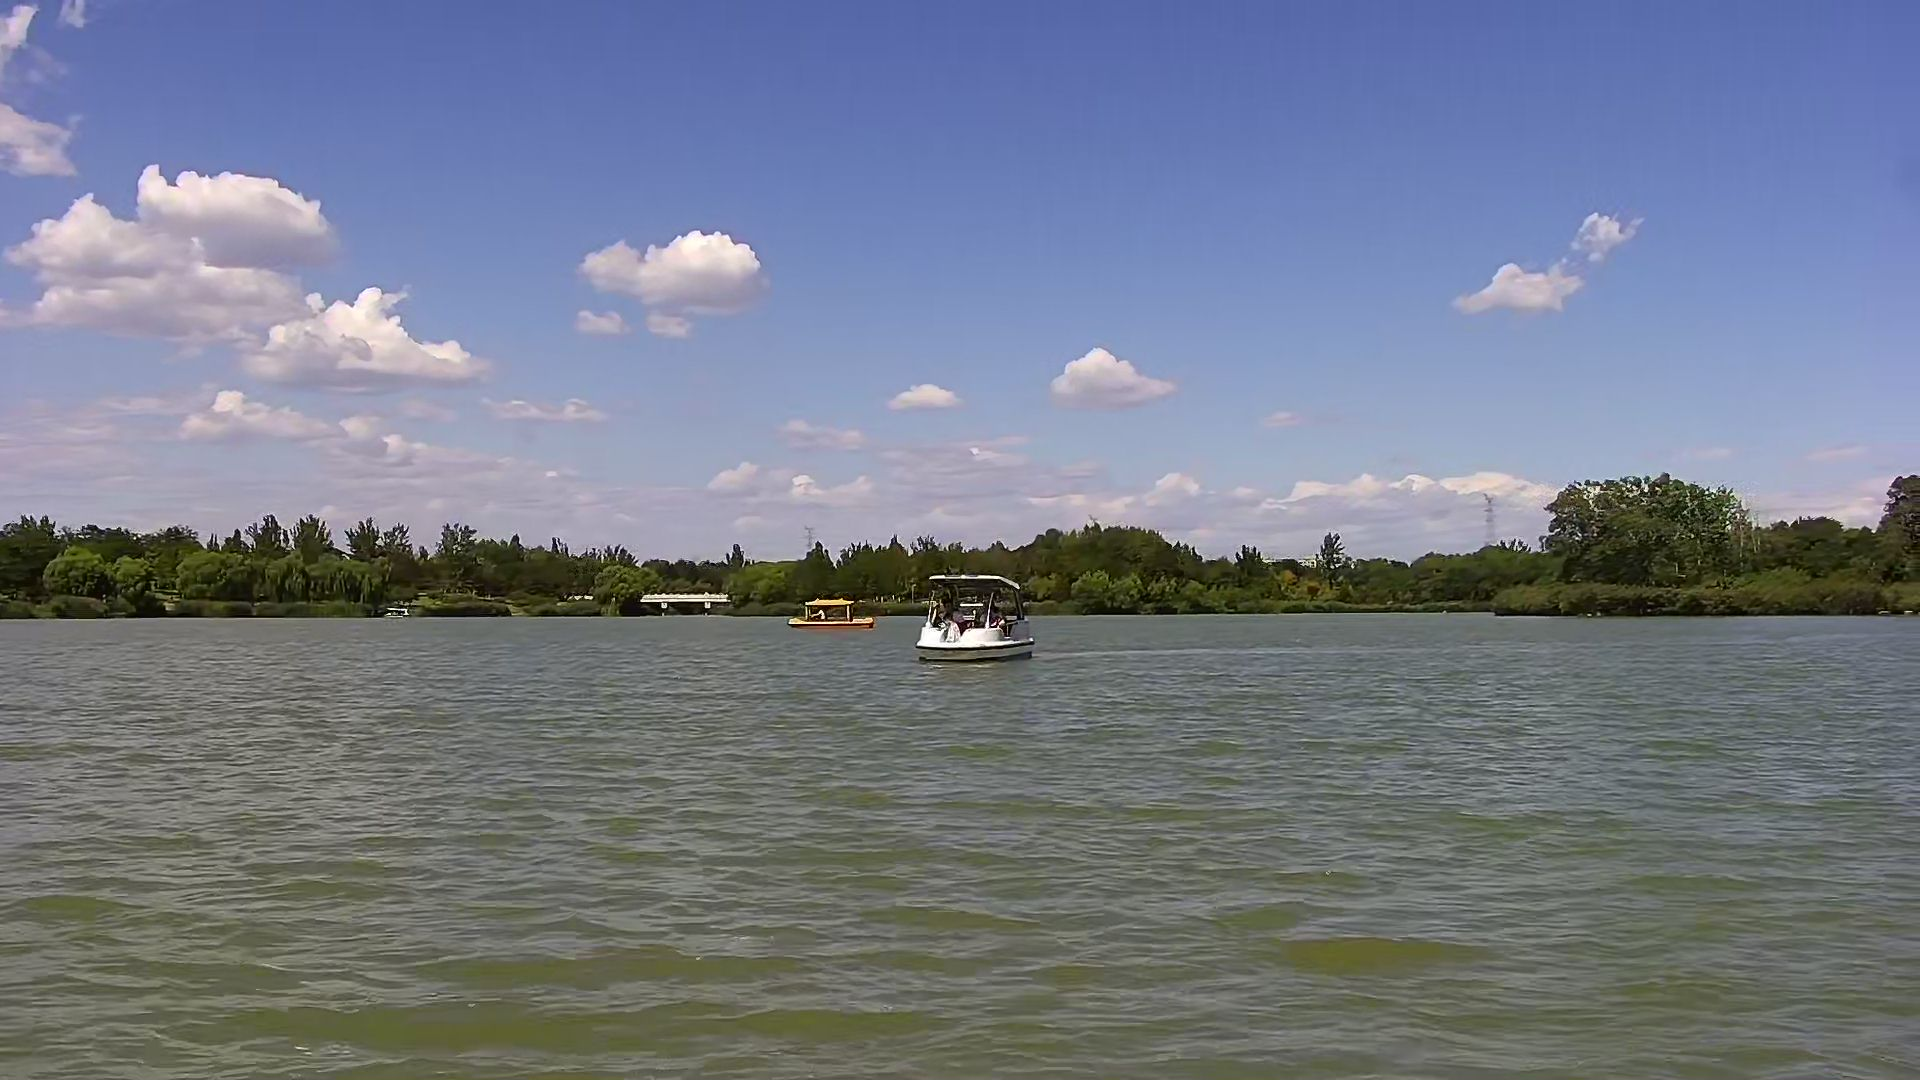boat: (910, 574, 1036, 675), (793, 593, 873, 624)
bridge: (640, 591, 723, 616)
